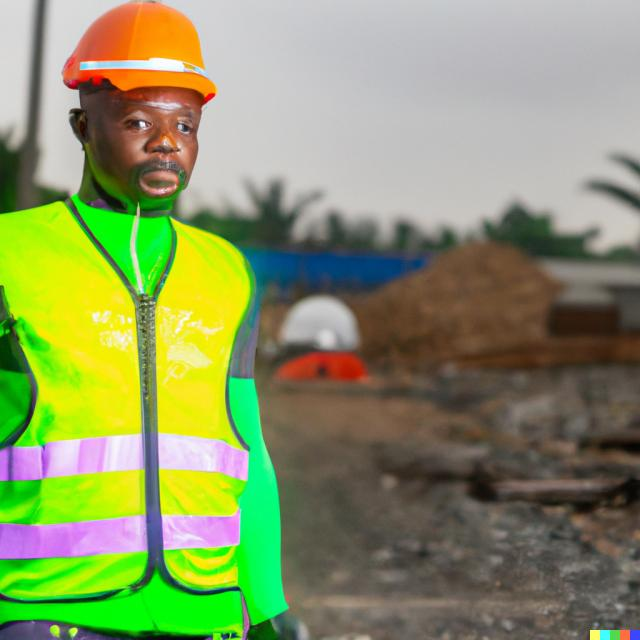Reflective-Jacket: (4, 186, 258, 632)
Safety-Helmet: (59, 0, 220, 101)
